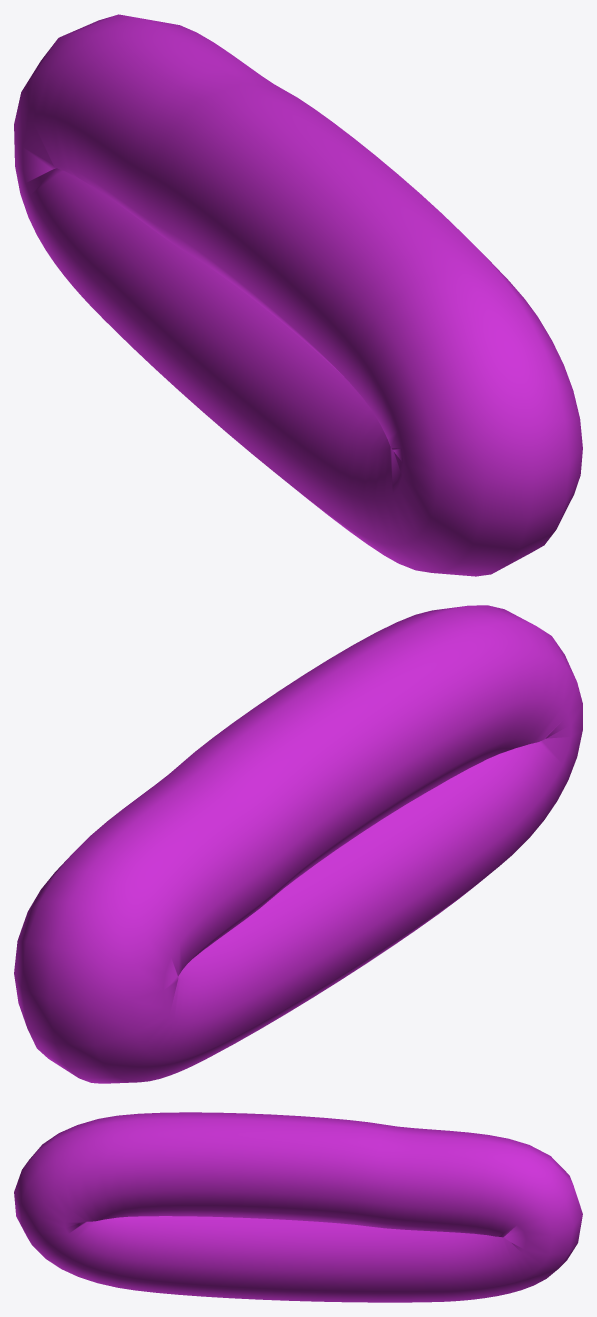
The model's file is Lips.obj.
3 views of the same model, one above another, from view 1: azimuth 30°, elevation 25°; view 2: azimuth 150°, elevation 25°; view 3: azimuth 270°, elevation 25° (orthographic). The views are drawn at different scales.
Visible parts, largest first — view 1: BézierCurve; view 2: BézierCurve; view 3: BézierCurve.
Part boxes in pixels (x1=…): BézierCurve: x1=14, y1=14, x2=582, y2=576; BézierCurve: x1=14, y1=605, x2=582, y2=1083; BézierCurve: x1=14, y1=1112, x2=582, y2=1302.
Size of the model in its own units: 0.2311 by 0.3377 by 0.9779.
1 material, 1 textured.
